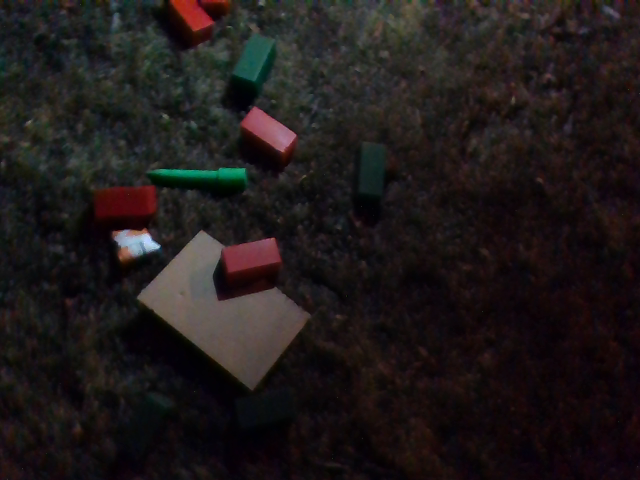Probe: (144, 162, 263, 183)
